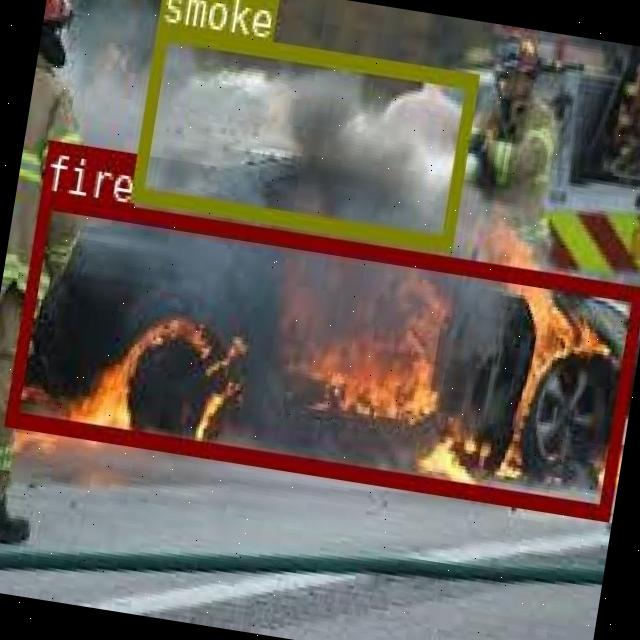fire: (3, 190, 640, 518)
smoke: (129, 21, 478, 248)
